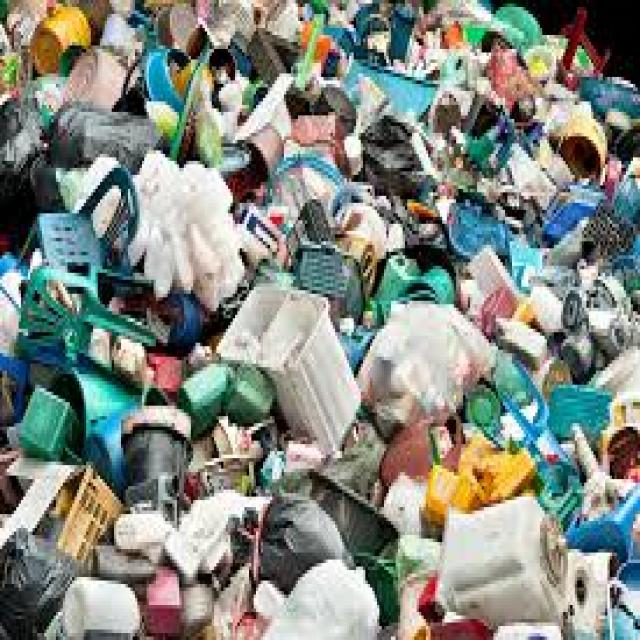plastic: (226, 224, 376, 482), (22, 161, 145, 304)
